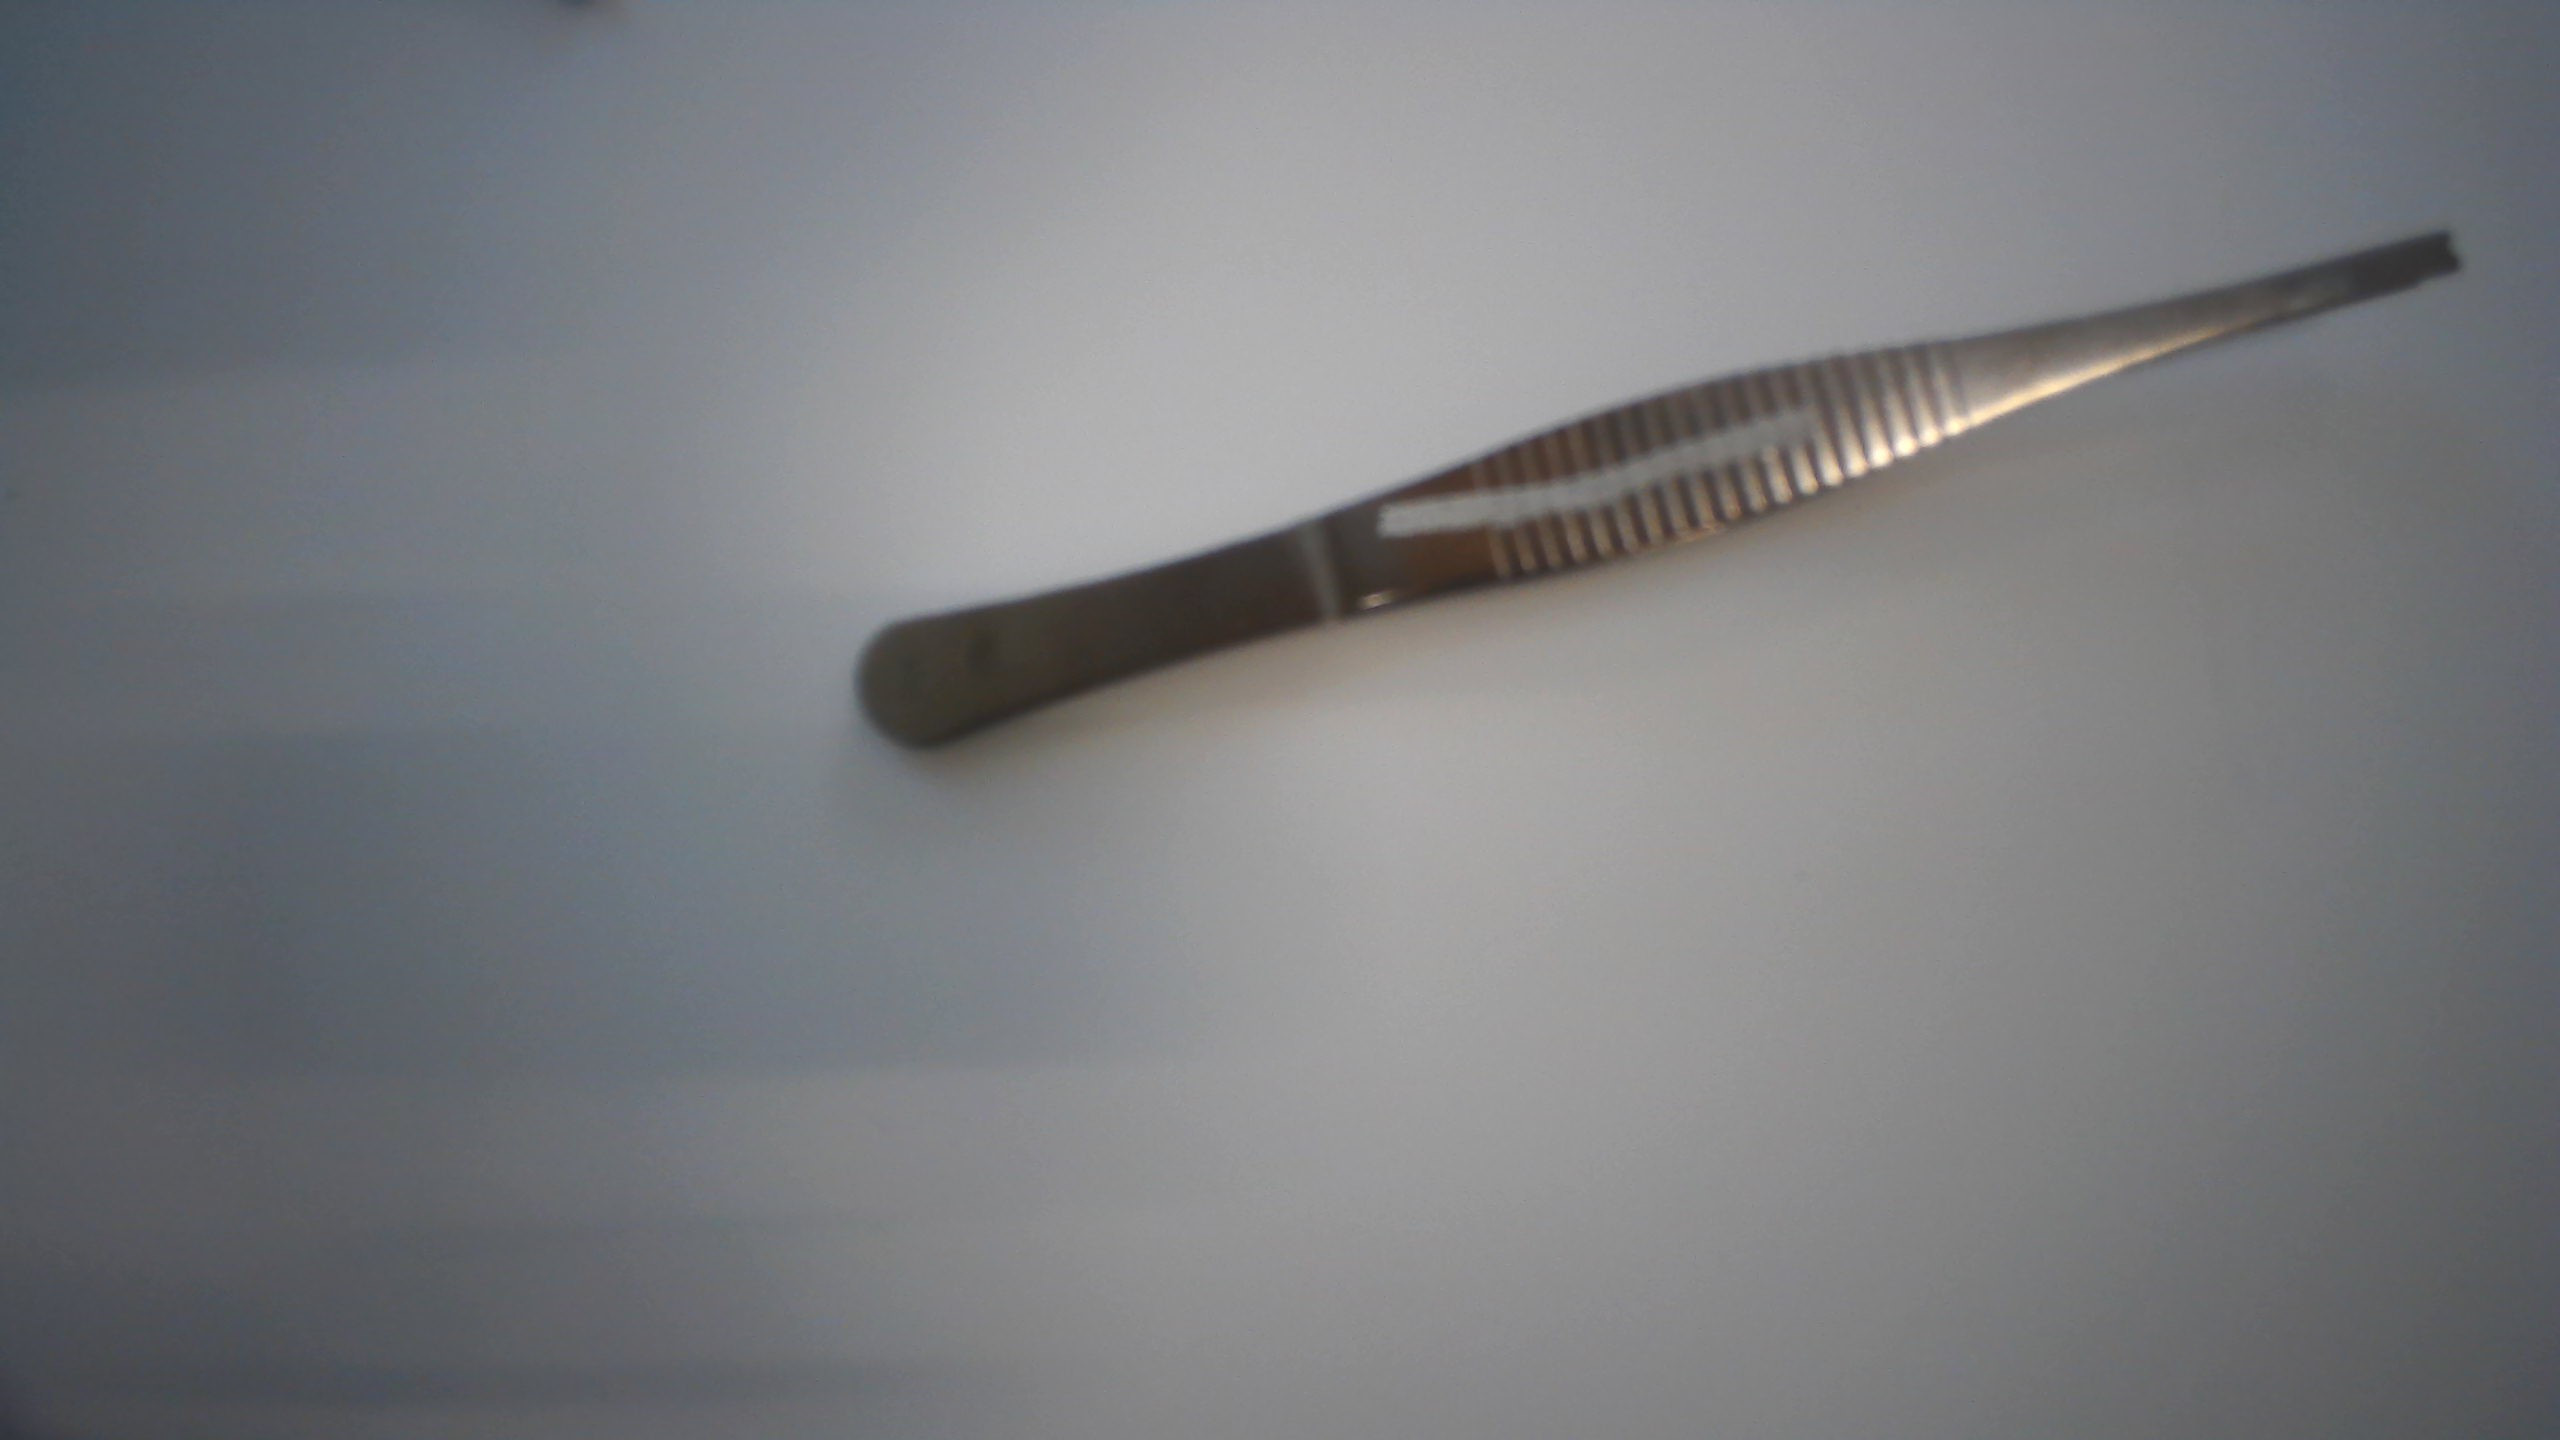Scratches: (1364, 394, 1841, 552)
